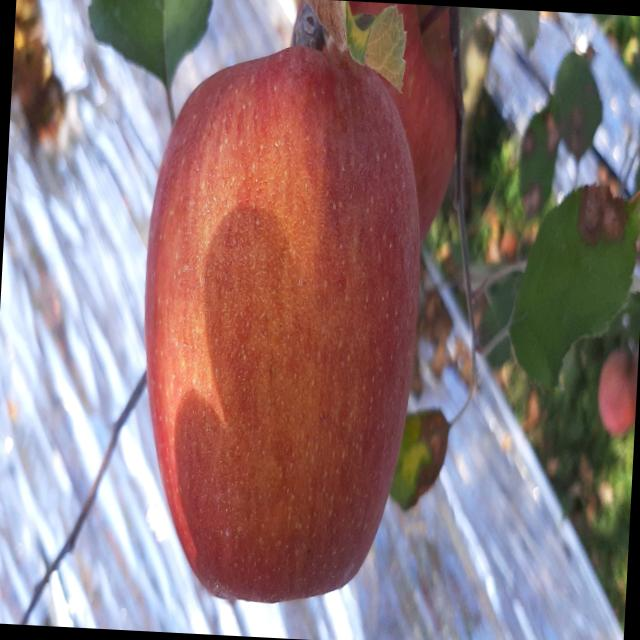fresh: (123, 31, 439, 620)
